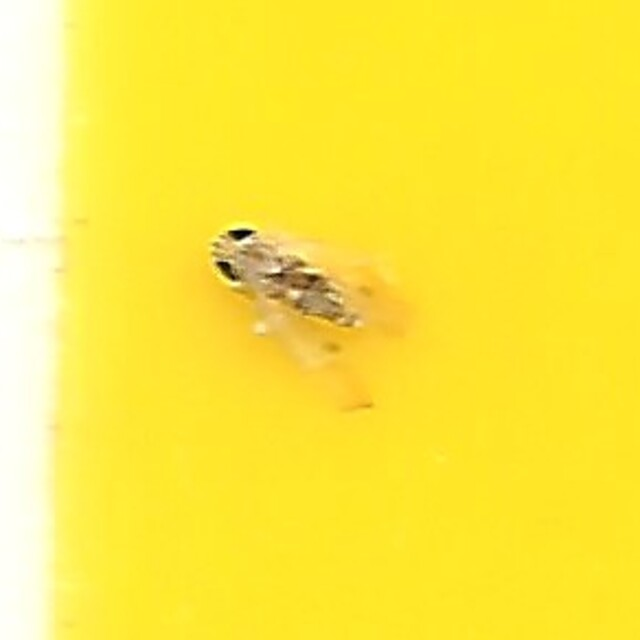Hemiptera: (219, 224, 421, 416)
